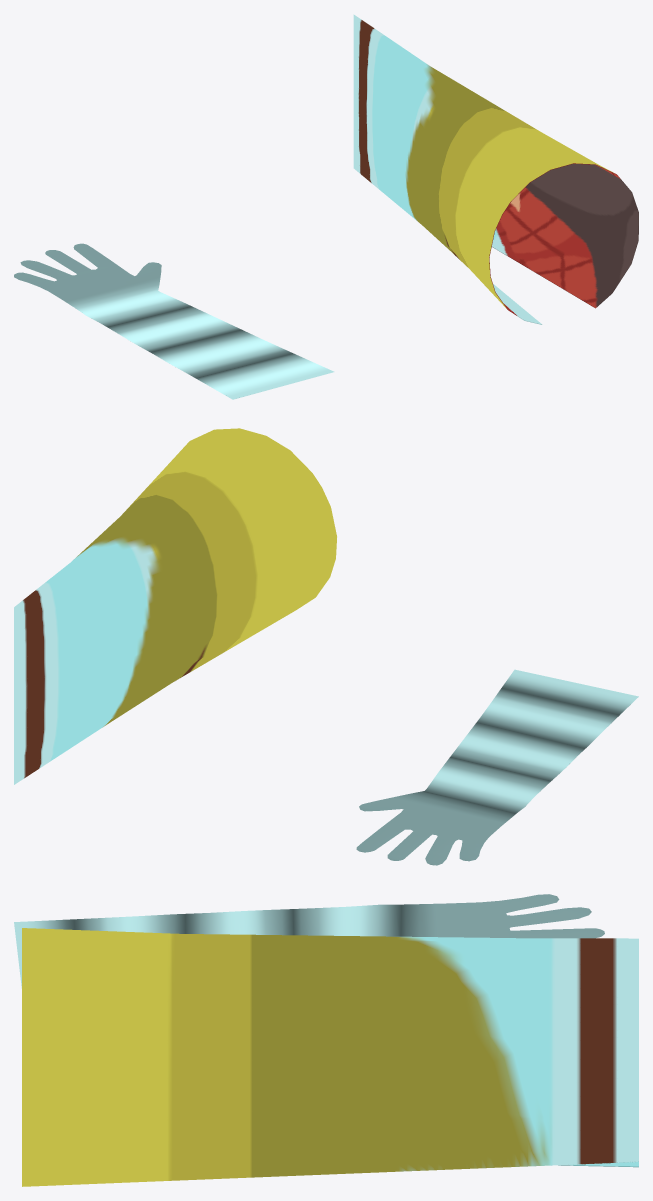
3 views of the same model, one above another, from view 1: azimuth 30°, elevation 25°; view 2: azimuth 150°, elevation 25°; view 3: azimuth 270°, elevation 25° (orthographic). The views are drawn at different scales.
Visible parts, largest first — view 1: blend_01, blend_02; view 2: blend_01, blend_02; view 3: blend_01, blend_02.
Part boxes in pixels (left/top/right/bottom): blend_01: left=353, top=14, right=638, bottom=324; blend_02: left=14, top=243, right=334, bottom=399; blend_01: left=14, top=428, right=336, bottom=784; blend_02: left=356, top=669, right=638, bottom=865; blend_01: left=22, top=928, right=638, bottom=1186; blend_02: left=14, top=894, right=604, bottom=988.
Size of what is drawn, in the model's own units: 730 by 240 by 595.
